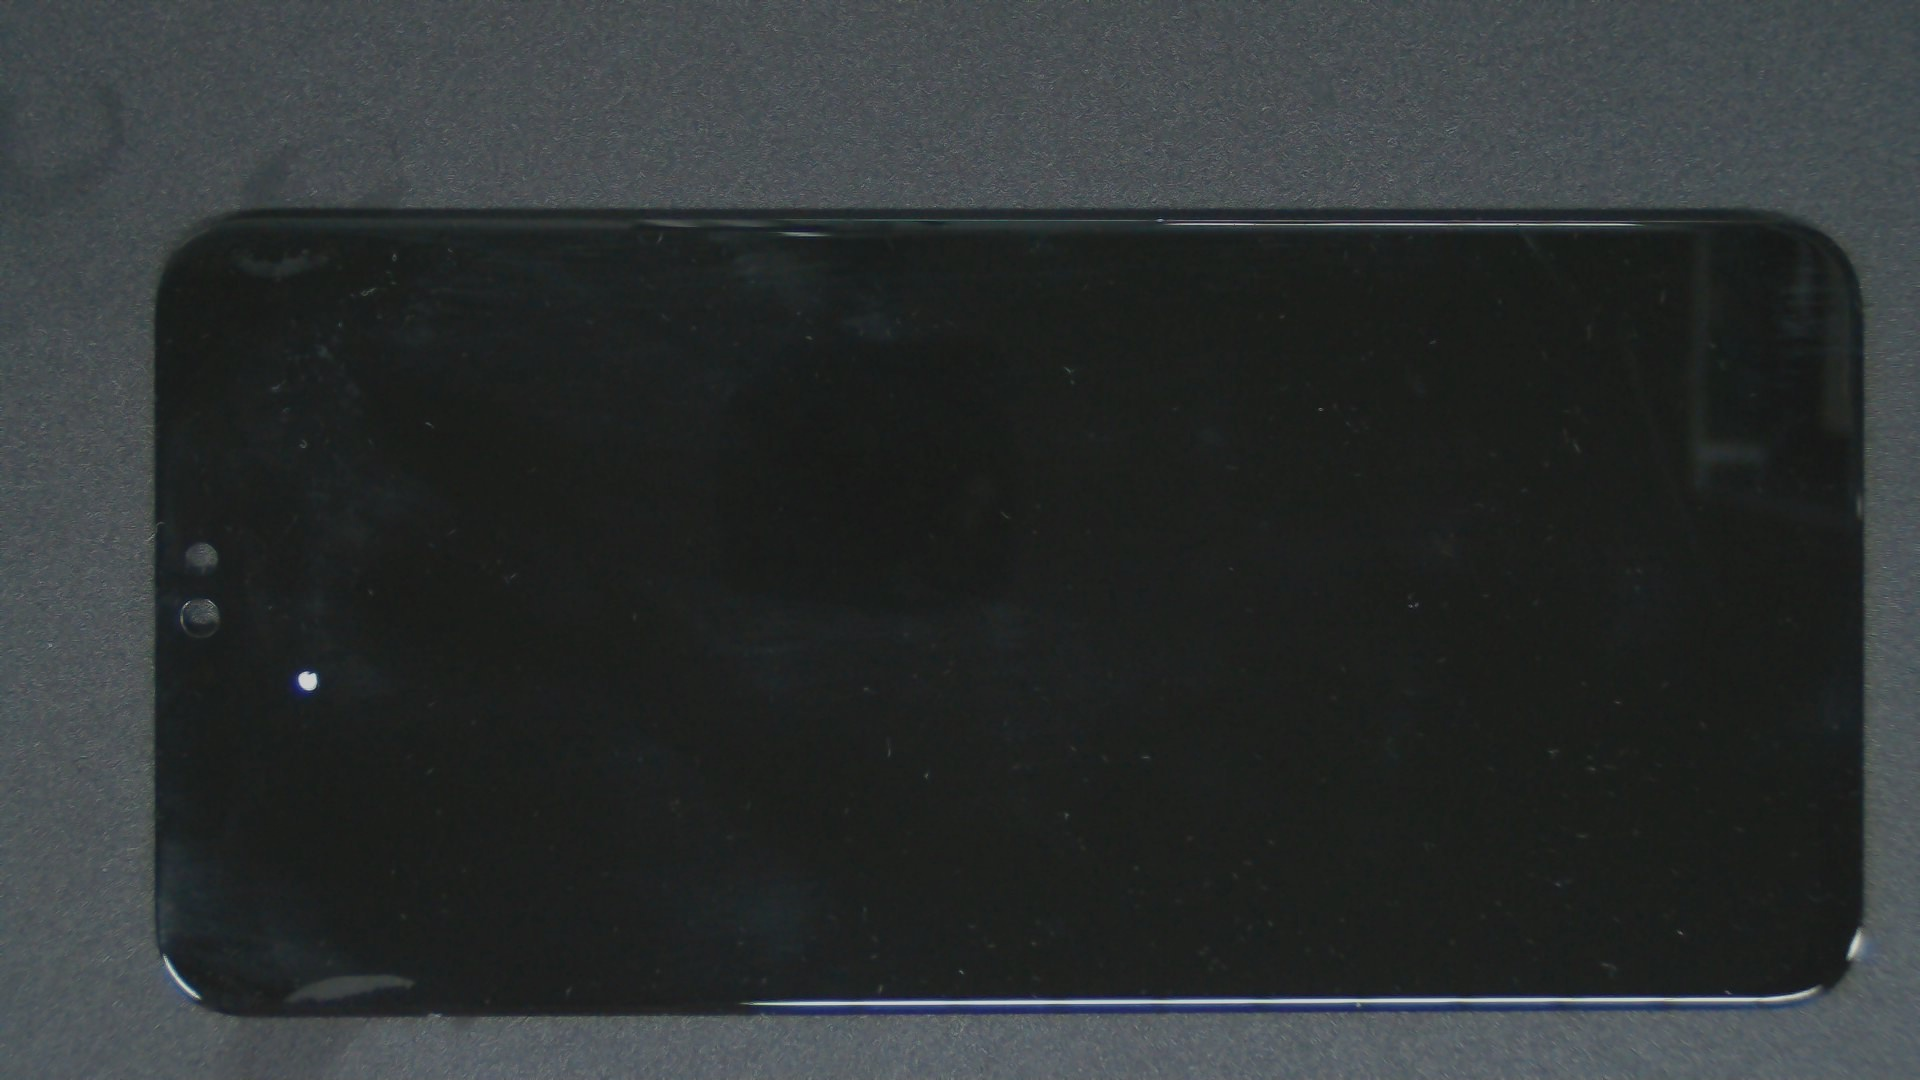oil: (153, 335, 459, 1006)
